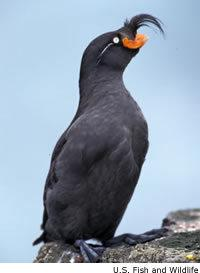005.Crested_Auklet: (31, 13, 169, 263)
